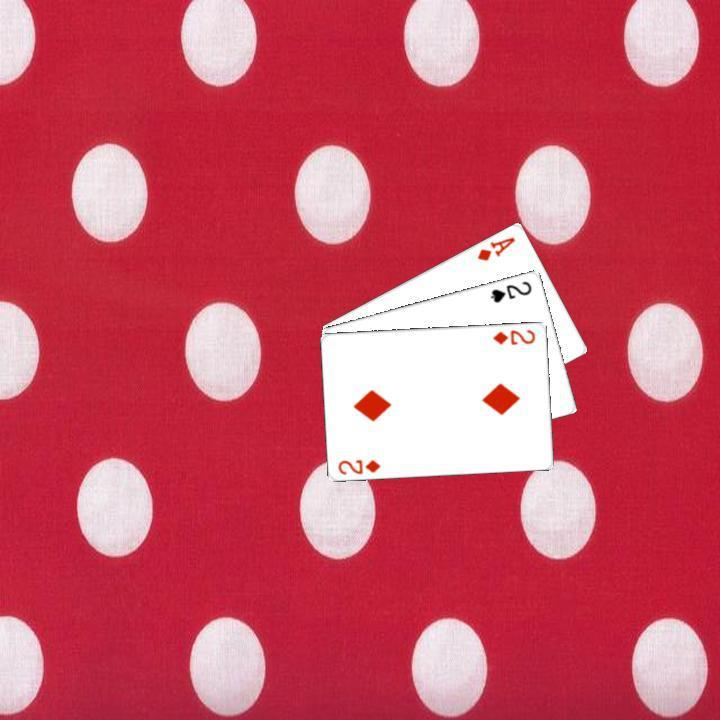2: (486, 276, 534, 304), (489, 325, 537, 346), (334, 455, 382, 476)
A: (473, 232, 517, 262)
